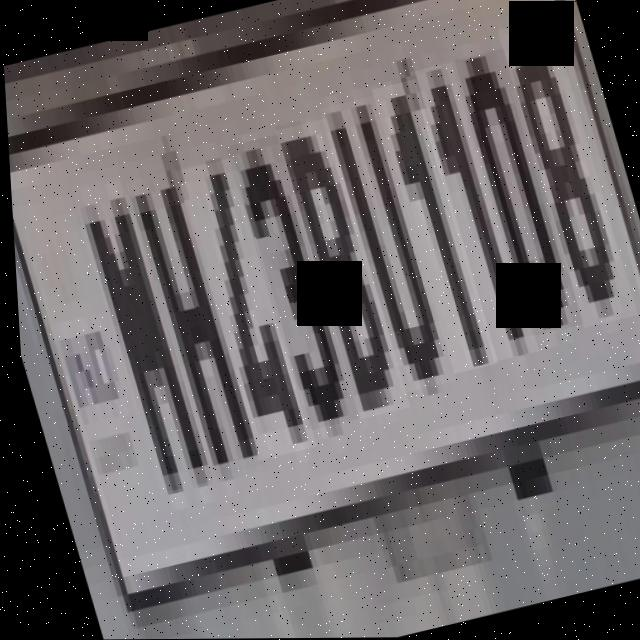0: (449, 49, 580, 338)
1: (408, 61, 535, 363), (369, 79, 494, 374)
3: (223, 134, 356, 431)
4: (173, 157, 312, 462)
8: (496, 17, 633, 329)
B: (273, 118, 405, 420)
H: (120, 167, 259, 479)
M: (68, 175, 209, 496)
U: (318, 95, 451, 394)
